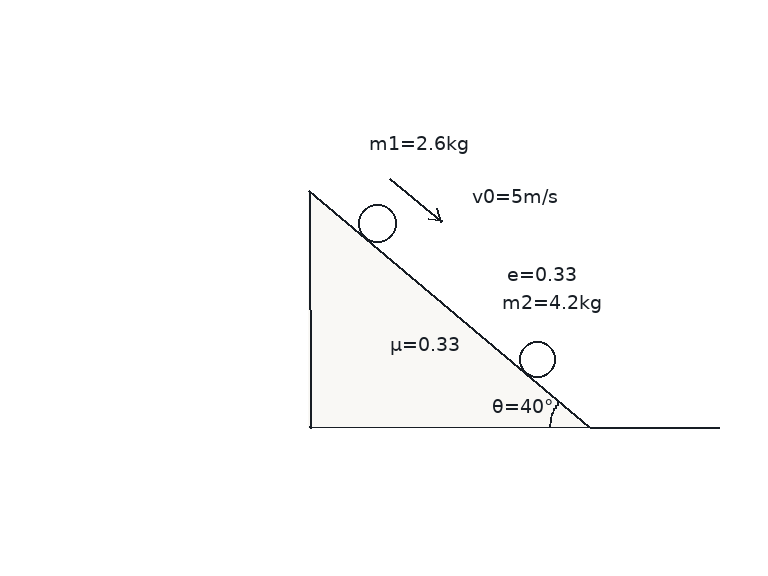ball: (356, 202, 398, 244), (517, 339, 557, 379)
ramp: (307, 189, 592, 429)
